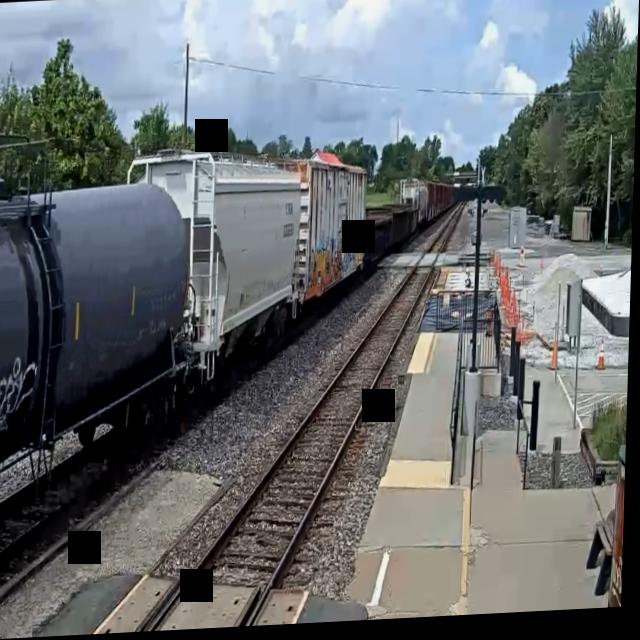boxcar: (290, 151, 375, 323)
hopper: (122, 142, 312, 392)
tank: (0, 155, 207, 523)
